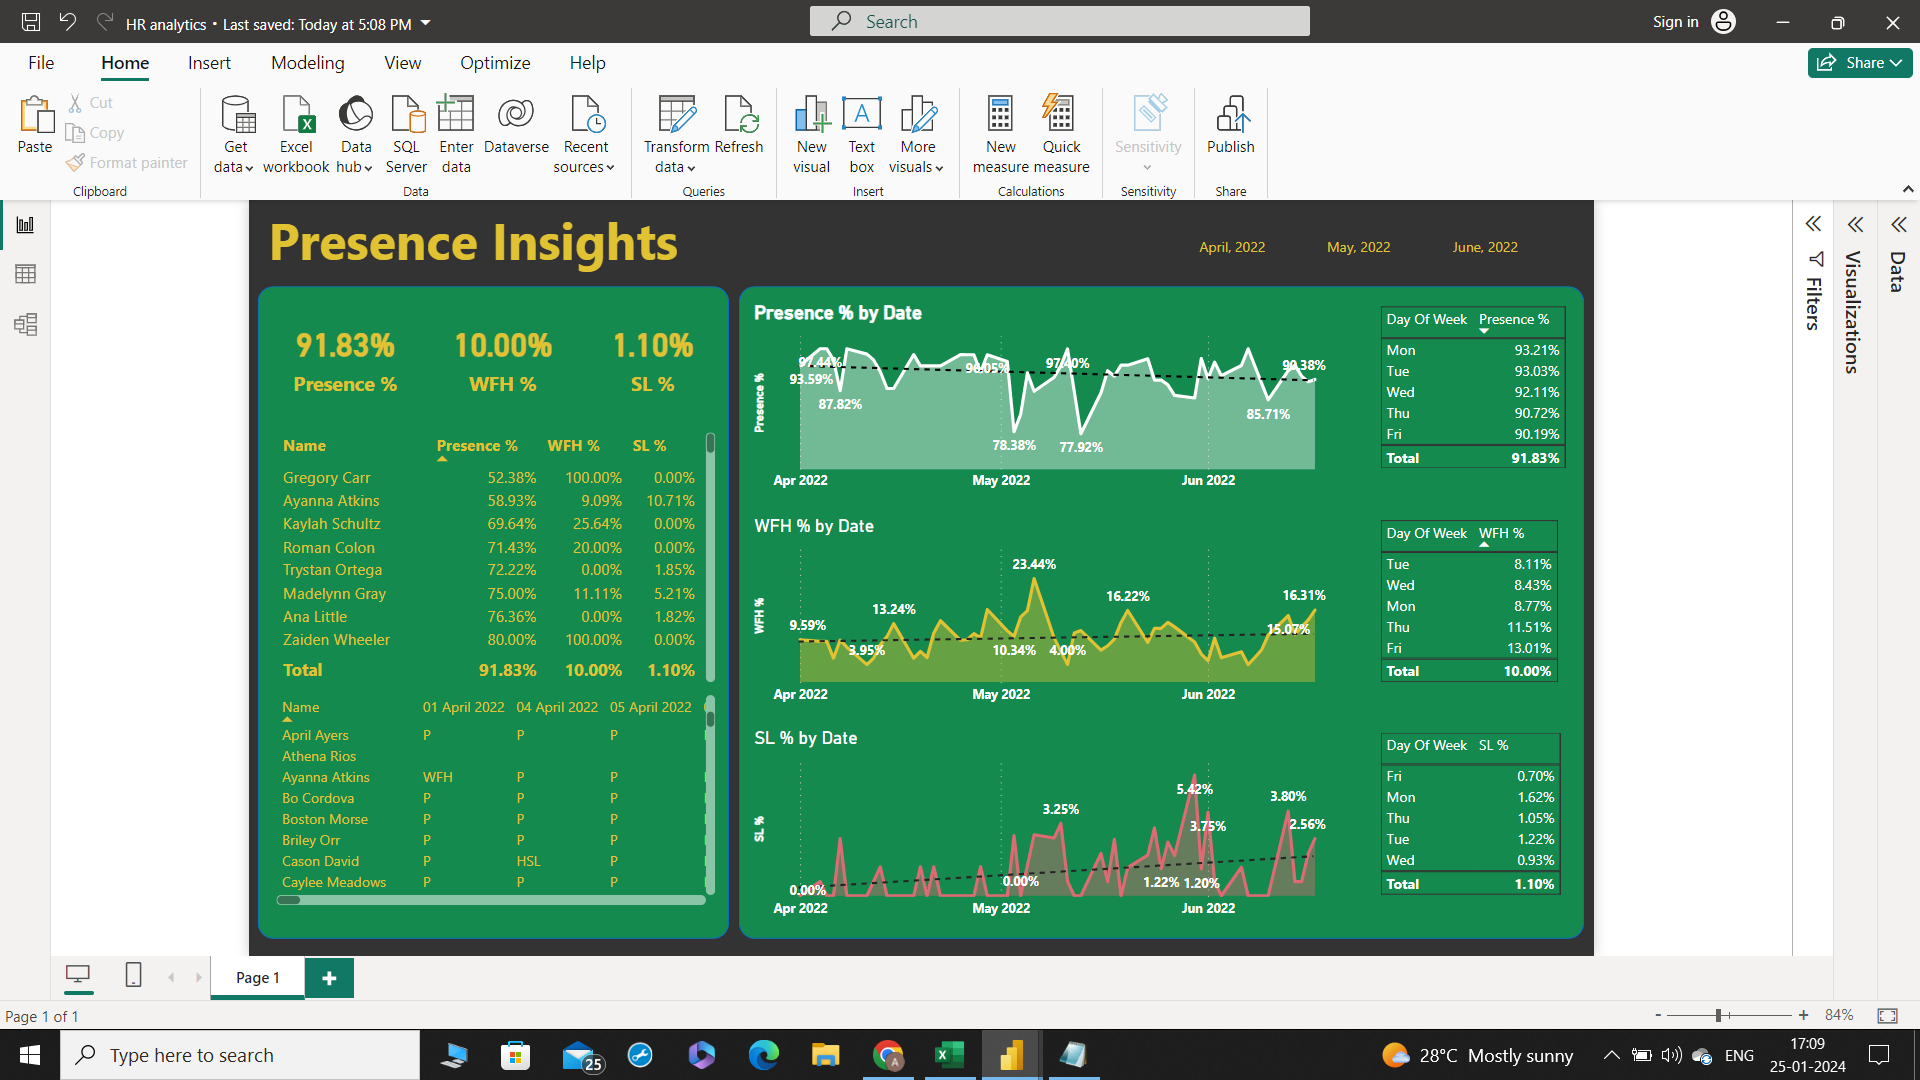

The dashboard page shown, as its layout file describes it:
{"tool":"powerbi","page":{"name":"Page 1","canvas":[1280,720],"ordinal":0},"visuals":[{"type":"shape","box":[8.3,82.1,448.7,621.2],"z":0},{"type":"shape","box":[466.5,82.1,804.5,621.2],"z":1000},{"type":"card","fields":{"Values":["Measure Table.Presence %"]},"box":[21.4,96.4,140.4,104.7],"z":2000},{"type":"slicer","fields":{"Values":["Final Data.Month"]},"box":[850.9,15.5,409.4,58.3],"z":3000},{"type":"card","fields":{"Values":["Measure Table.WFH %"]},"box":[185.7,96.4,111.9,104.7],"z":4000},{"type":"card","fields":{"Values":["Measure Table.SL %"]},"box":[320.1,96.4,128.5,104.7],"z":5000},{"type":"tableEx","fields":{"Values":["Final Data.Name","Measure Table.Presence %","Measure Table.WFH %","Measure Table.SL %"]},"box":[21.4,216.6,427.2,247.5],"z":6000},{"type":"textbox","box":[0,0,427.2,80.9],"z":7000},{"type":"pivotTable","fields":{"Rows":["Final Data.Name"],"Columns":["Final Data.Date"],"Values":["Min(Final Data.Value)"]},"box":[21.4,466.5,427.2,209.5],"z":8000},{"type":"areaChart","fields":{"Y":["Measure Table.Presence %"],"Category":["Final Data.Date"]},"box":[476,96.4,570,189.2],"z":9000},{"type":"areaChart","fields":{"Y":["Measure Table.WFH %"],"Category":["Final Data.Date"]},"box":[476,299.9,570,189.2],"z":10000},{"type":"areaChart","fields":{"Y":["Measure Table.SL %"],"Category":["Final Data.Date"]},"box":[476,502.2,570,190.4],"z":11000},{"type":"tableEx","fields":{"Values":["Final Data.Day Of Week","Measure Table.Presence %"]},"box":[1071.1,96.4,189.2,174.9],"z":12000},{"type":"tableEx","fields":{"Values":["Final Data.Day Of Week","Measure Table.WFH %"]},"box":[1071.1,299.9,189.2,164.2],"z":13000},{"type":"tableEx","fields":{"Values":["Final Data.Day Of Week","Measure Table.SL %"]},"box":[1071.1,502.2,189.2,164.2],"z":14000}]}

Visuals, with their boxes on the page's 1280x720 design canvas (x1, y1, x2, y2). These are canvas units, not pixel positions in the 1920x1080 screenshot, which may show the page scaled, cropped or inside an application window:
shape: {"left": 8, "top": 82, "right": 457, "bottom": 703}
shape: {"left": 466, "top": 82, "right": 1271, "bottom": 703}
card - Measure Table.Presence %: {"left": 21, "top": 96, "right": 162, "bottom": 201}
slicer - Final Data.Month: {"left": 851, "top": 16, "right": 1260, "bottom": 74}
card - Measure Table.WFH %: {"left": 186, "top": 96, "right": 298, "bottom": 201}
card - Measure Table.SL %: {"left": 320, "top": 96, "right": 449, "bottom": 201}
tableEx - Final Data.Name x Measure Table.Presence %: {"left": 21, "top": 217, "right": 449, "bottom": 464}
textbox: {"left": 0, "top": 0, "right": 427, "bottom": 81}
pivotTable - Final Data.Name x Final Data.Date: {"left": 21, "top": 466, "right": 449, "bottom": 676}
areaChart - Measure Table.Presence % x Final Data.Date: {"left": 476, "top": 96, "right": 1046, "bottom": 286}
areaChart - Measure Table.WFH % x Final Data.Date: {"left": 476, "top": 300, "right": 1046, "bottom": 489}
areaChart - Measure Table.SL % x Final Data.Date: {"left": 476, "top": 502, "right": 1046, "bottom": 693}
tableEx - Final Data.Day Of Week x Measure Table.Presence %: {"left": 1071, "top": 96, "right": 1260, "bottom": 271}
tableEx - Final Data.Day Of Week x Measure Table.WFH %: {"left": 1071, "top": 300, "right": 1260, "bottom": 464}
tableEx - Final Data.Day Of Week x Measure Table.SL %: {"left": 1071, "top": 502, "right": 1260, "bottom": 666}
